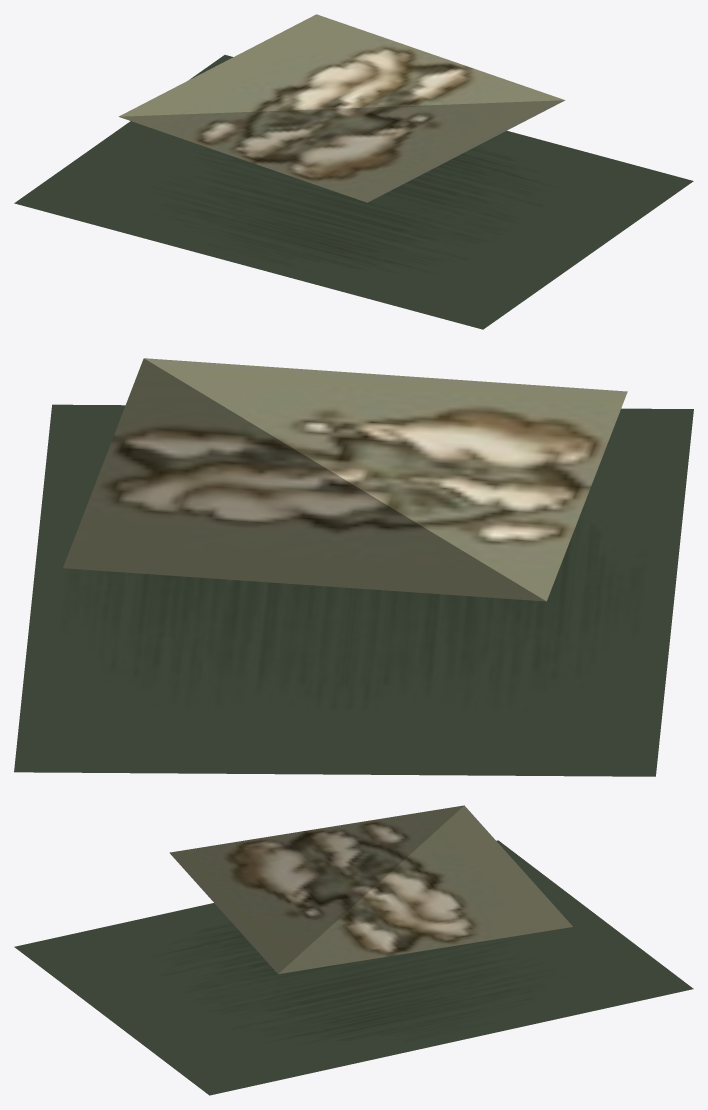
The model's file is pir_m_are_isl_mysterious_06_worldmap.fbx.
3 views of the same model, one above another, from view 1: azimuth 30°, elevation 25°; view 2: azimuth 150°, elevation 25°; view 3: azimuth 270°, elevation 25° (orthographic). The views are drawn at different scales.
Visible parts, largest first — view 1: sketchmark, top_mesh; view 2: sketchmark, top_mesh; view 3: sketchmark, top_mesh.
Boxes of the visible parts, box(x1,y1,x2,y2) form: sketchmark: box(14, 55, 693, 329); top_mesh: box(118, 14, 565, 202); sketchmark: box(14, 404, 693, 776); top_mesh: box(63, 358, 627, 601); sketchmark: box(14, 840, 693, 1095); top_mesh: box(169, 805, 572, 973).
Bounding box in the file's own units: 74.7 × 10.46 × 84.1.
Materials: 1 (1 with a texture image).
